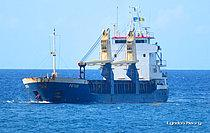Ship: (19, 1, 175, 108)
